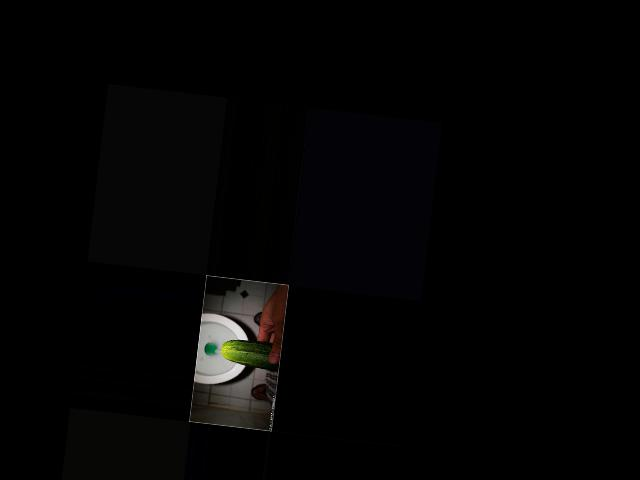cucumber: (219, 337, 282, 372)
